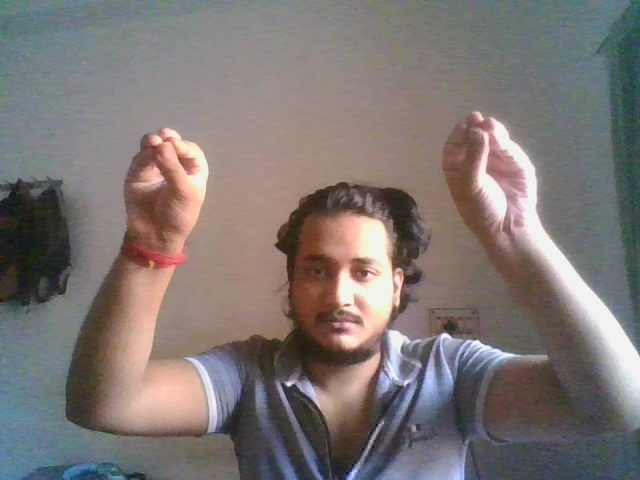Mouth: (441, 110, 541, 244), (120, 127, 211, 244)
